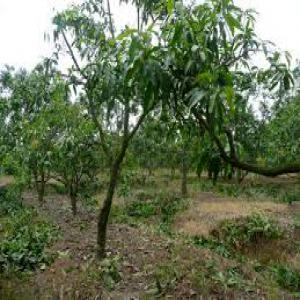Tree: (50, 8, 189, 258)
